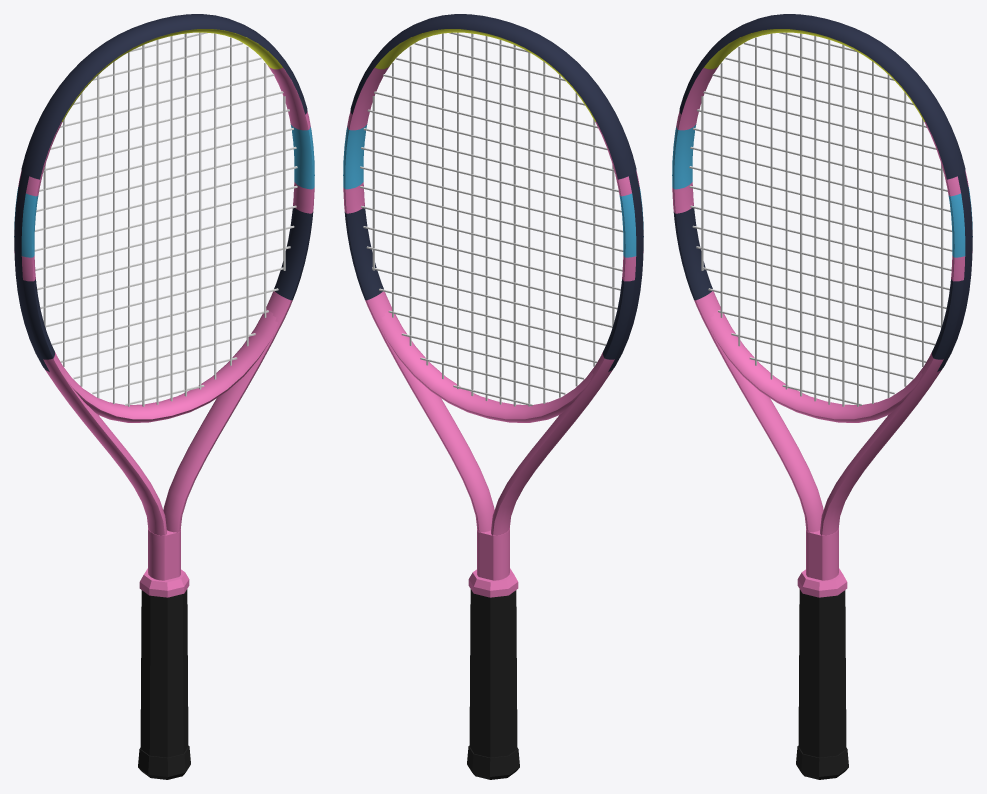
File: babolat-pure-aero-rafa-junior-26-2023.glb
3 views of the same model, side by side, from view 1: azimuth 30°, elevation 25°; view 2: azimuth 150°, elevation 25°; view 3: azimuth 330°, elevation 25° (orthographic).
Parts seen in each view (by area): view 1: frame, strings_mains, strings_crosses, grip, bumper, grommets, butt_cap, collar; view 2: frame, strings_mains, strings_crosses, grip, bumper, grommets, butt_cap, collar; view 3: frame, strings_mains, strings_crosses, grip, bumper, grommets, butt_cap, collar.
Part boxes in pixels (x1=…): frame: x1=14, y1=29, x2=314, y2=580; strings_mains: x1=43, y1=32, x2=285, y2=406; strings_crosses: x1=34, y1=32, x2=297, y2=405; grip: x1=140, y1=589, x2=188, y2=757; bumper: x1=21, y1=14, x2=307, y2=179; grommets: x1=14, y1=171, x2=49, y2=371; butt_cap: x1=138, y1=745, x2=190, y2=779; collar: x1=139, y1=568, x2=189, y2=597; frame: x1=343, y1=29, x2=643, y2=580; strings_mains: x1=372, y1=32, x2=614, y2=406; strings_crosses: x1=360, y1=32, x2=623, y2=406; grip: x1=469, y1=589, x2=517, y2=757; bumper: x1=350, y1=14, x2=636, y2=179; grommets: x1=608, y1=171, x2=643, y2=371; butt_cap: x1=467, y1=745, x2=519, y2=779; collar: x1=468, y1=568, x2=518, y2=597; frame: x1=672, y1=29, x2=972, y2=580; strings_mains: x1=701, y1=32, x2=943, y2=406; strings_crosses: x1=689, y1=32, x2=952, y2=405; grip: x1=798, y1=589, x2=846, y2=757; bumper: x1=679, y1=14, x2=965, y2=179; grommets: x1=937, y1=171, x2=972, y2=371; butt_cap: x1=796, y1=745, x2=848, y2=779; collar: x1=797, y1=568, x2=847, y2=597.
Size of the model in its own units: 0.2718 by 0.6607 by 0.0396.
